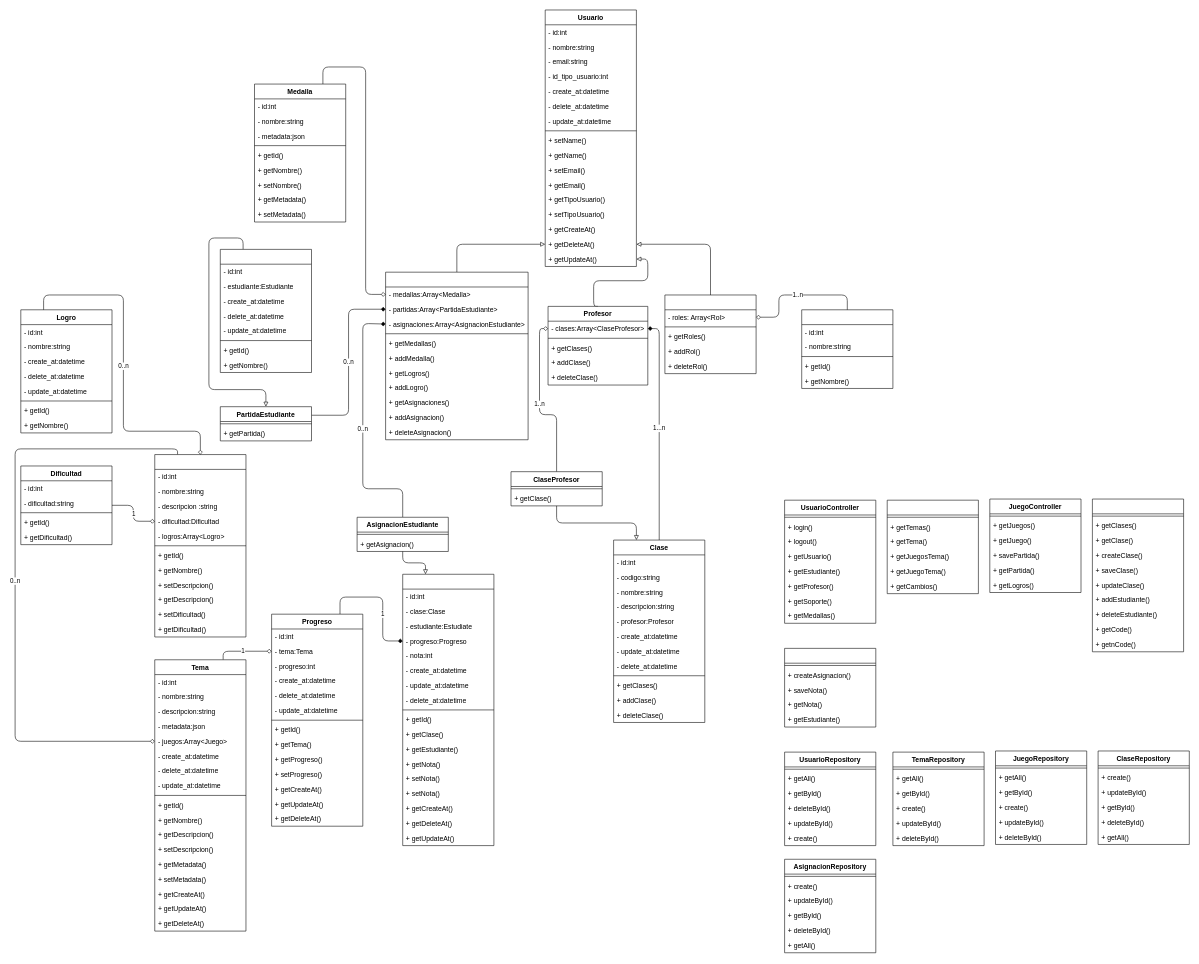
The diagram is 1199 pixels wide and 964 high, and some of its shapes have lost their labels. The box of each missing label's shape, as (x1, y1, x2, y2) in pixels:
Asignacion: (402, 574, 494, 846)
AsignacionController: (784, 648, 876, 727)
ClaseController: (1092, 498, 1184, 652)
Estudiante: (385, 272, 528, 440)
Juego: (154, 454, 246, 637)
Partida: (220, 249, 312, 372)
Rol: (801, 309, 893, 388)
Soporte: (664, 294, 756, 374)
TemaController: (887, 500, 978, 594)
